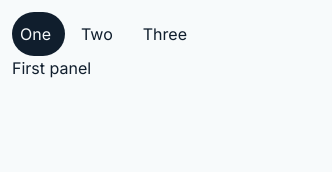
Scenario: Tabs › selects on click and on the arrow, Home, and End keys, moving focus with the selection
Click the tab "Two": click(100, 34) x1=73 y1=12 x2=127 y2=56
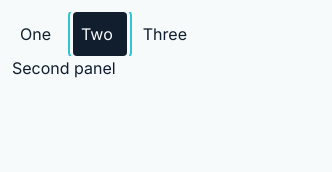
Result: the panel reads "Second panel" at x1=12 y1=58 x2=116 y2=78
Press ArrowRight in the tab "Two", box x1=73 y1=12 x2=127 y2=56
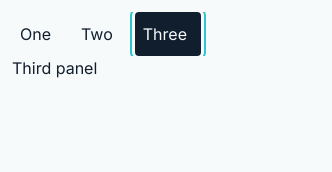
Result: the tab "Three" is selected
// Wraps at the ends.
Press ArrowRight in the tab "Three", box x1=135 y1=12 x2=201 y2=56
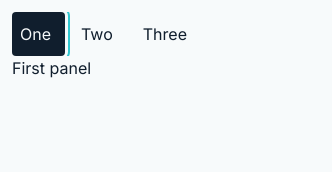
Result: the tab "One" is selected
Press ArrowLeft in the tab "One", box x1=12 y1=12 x2=65 y2=56
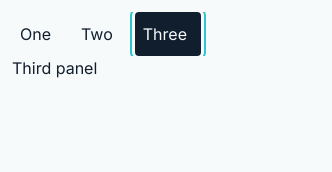
Result: the tab "Three" is selected
Press Home in the tab "Three", box x1=135 y1=12 x2=201 y2=56
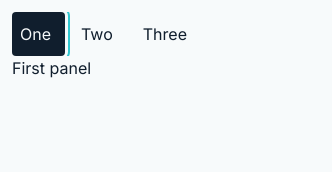
Result: the tab "One" is selected
Press End in the tab "One", box x1=12 y1=12 x2=65 y2=56
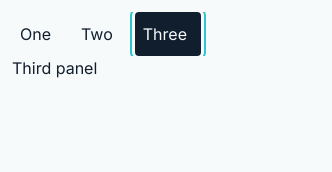
Result: the tab "Three" is selected
// Other keys are left alone.
Press Tab in the tab "Three", box x1=135 y1=12 x2=201 y2=56
Result: the tab "Three" is selected at x1=135 y1=12 x2=201 y2=56
